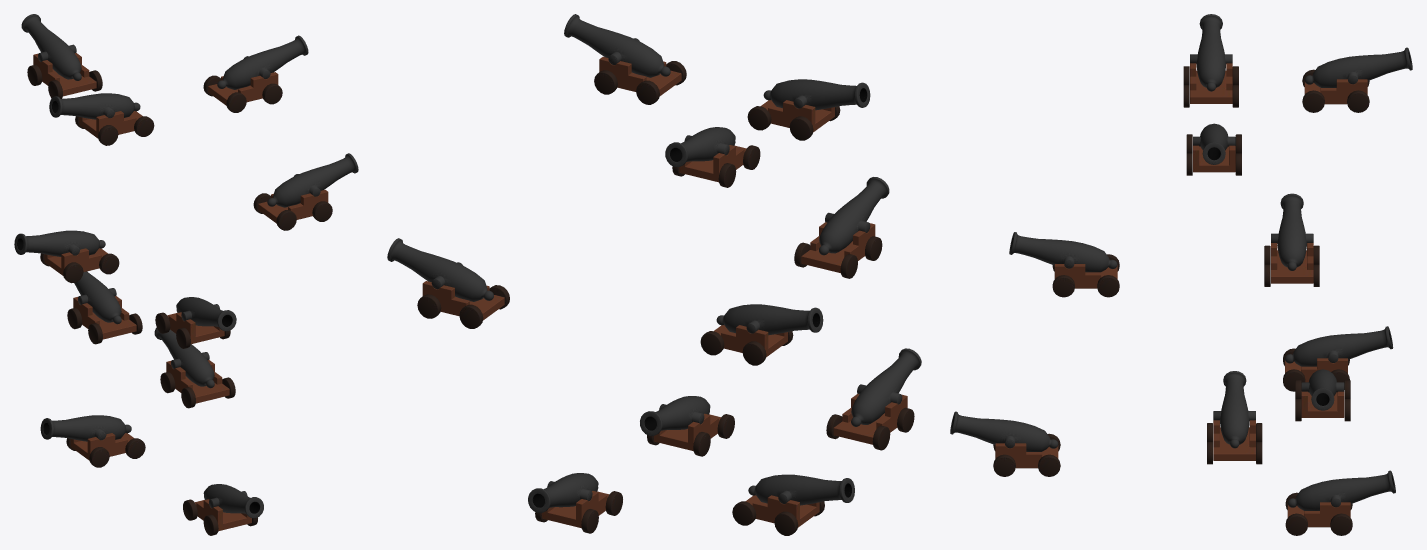
File: cannons.glb
The picture shows the model from 3 angles, left to right: view 1: azimuth 30°, elevation 25°; view 2: azimuth 150°, elevation 25°; view 3: azimuth 270°, elevation 25°; orthographic projection. The views are drawn at different scales.
Parts seen in each view (by area): view 1: cannon4, cannon5, cannon8, cannon10, cannon6, cannon9, cannonMount5, cannonMount4, cannonMount3, cannonMount7, cannonMount8, cannonMount10 (+8 smaller); view 2: cannon5, cannon4, cannon2, cannon1, cannon10, cannon6, cannon9, cannonMount4, cannonMount5, cannonMount1, cannonMount2, cannonMount9 (+8 smaller); view 3: cannon7, cannon3, cannon2, cannon8, cannon1, cannon6, cannon10, cannon9, cannonMount2, cannonMount8, cannonMount3, cannonMount1 (+8 smaller).
Part boxes in pixels (<box>): cannon4: <box>267,153,358,207</box>; cannon5: <box>217,35,308,89</box>; cannon8: <box>21,14,81,80</box>; cannon10: <box>14,230,105,256</box>; cannon6: <box>49,93,140,119</box>; cannon9: <box>40,415,131,441</box>; cannonMount5: <box>203,72,282,112</box>; cannonMount4: <box>253,189,332,230</box>; cannonMount3: <box>160,360,235,408</box>; cannonMount7: <box>67,296,142,344</box>; cannonMount8: <box>27,53,102,98</box>; cannonMount10: <box>40,248,119,283</box>; cannon5: <box>564,14,670,77</box>; cannon4: <box>387,238,493,301</box>; cannon2: <box>851,348,921,426</box>; cannon1: <box>819,177,889,255</box>; cannon10: <box>716,304,823,335</box>; cannon6: <box>763,79,870,110</box>; cannon9: <box>748,474,854,505</box>; cannonMount4: <box>417,281,509,328</box>; cannonMount5: <box>594,57,686,104</box>; cannonMount1: <box>794,222,882,278</box>; cannonMount2: <box>826,394,914,450</box>; cannonMount9: <box>732,495,824,535</box>; cannon7: <box>1285,326,1393,366</box>; cannon3: <box>1287,470,1395,510</box>; cannon2: <box>950,411,1058,451</box>; cannon8: <box>1304,47,1412,87</box>; cannon1: <box>1009,232,1117,272</box>; cannon6: <box>1190,14,1232,91</box>; cannon10: <box>1271,193,1313,270</box>; cannon9: <box>1213,371,1255,448</box>; cannonMount2: <box>993,433,1060,476</box>; cannonMount8: <box>1302,69,1369,112</box>; cannonMount3: <box>1285,492,1352,535</box>; cannonMount1: <box>1052,254,1119,297</box>.
Bounding box in the file's own units: 7.1 × 7.32 × 7.47.
Materials: 1 (1 with a texture image).
